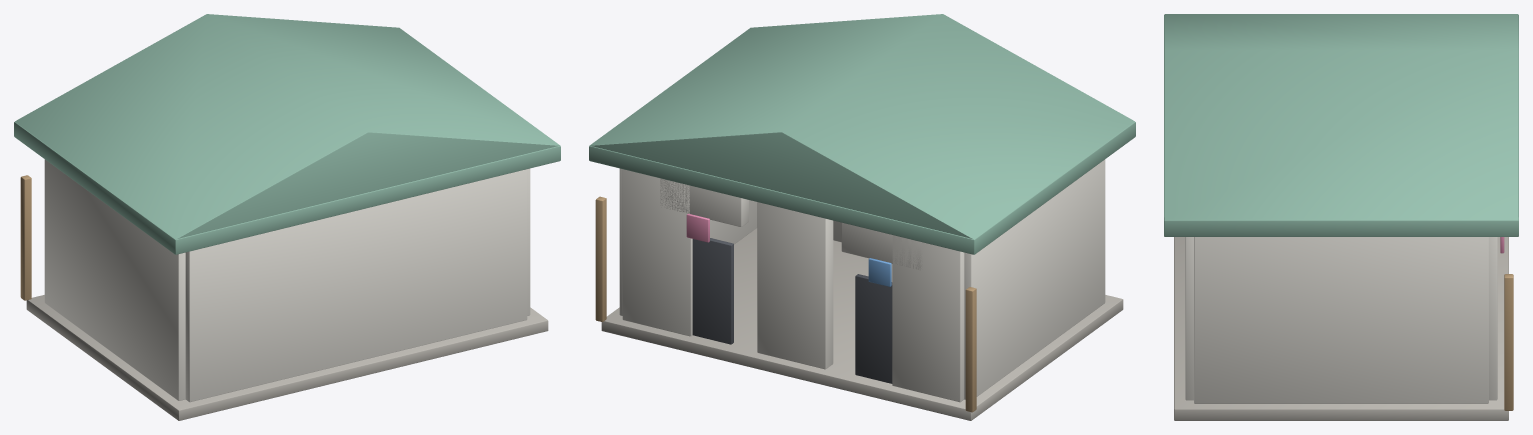
Rendered from th33_toilettenhaus.glb.
The picture shows the model from 3 angles, left to right: view 1: azimuth 30°, elevation 25°; view 2: azimuth 150°, elevation 25°; view 3: azimuth 270°, elevation 25°; orthographic projection. The views are drawn at different scales.
Visible parts, largest first — view 1: Giebel, Cube.001, Cube.002, Cube, Cube.013, Cube.014, Cube.003; view 2: Giebel, Cube.002, Cube, Cube.004, Cube.005, Cube.009, Cube.013, Cube.011, Cube.007, Cube.010, Cube.006, Cube.003 (+4 smaller); view 3: Giebel, Cube.003, Cube, Cube.013, Cube.001, Cube.009, Cube.015.
Boxes of the visible parts, x1,y1,x2,y2 form: Giebel: (15,14,559,239); Cube.001: (185,169,527,402); Cube.002: (44,159,185,400); Cube: (26,295,548,420); Cube.013: (14,122,560,254); Cube.014: (20,175,31,300); Cube.003: (527,168,530,315); Giebel: (590,14,1134,239); Cube.002: (964,159,1105,399); Cube: (601,228,1123,420); Cube.004: (757,202,833,369); Cube.005: (892,235,964,402); Cube.009: (622,169,692,336); Cube.013: (589,122,1135,254); Cube.011: (692,238,733,344); Cube.007: (855,274,892,383); Cube.010: (660,178,748,226); Cube.006: (841,222,922,270); Cube.003: (619,168,757,315); Giebel: (1164,14,1518,219); Cube.003: (1194,237,1488,403); Cube: (1174,237,1508,420); Cube.013: (1164,217,1518,236); Cube.001: (1185,237,1193,400); Cube.009: (1489,237,1497,400); Cube.015: (1504,274,1513,410).
Bounding box in the file's own units: 7.3 × 4.48 × 5.3.
